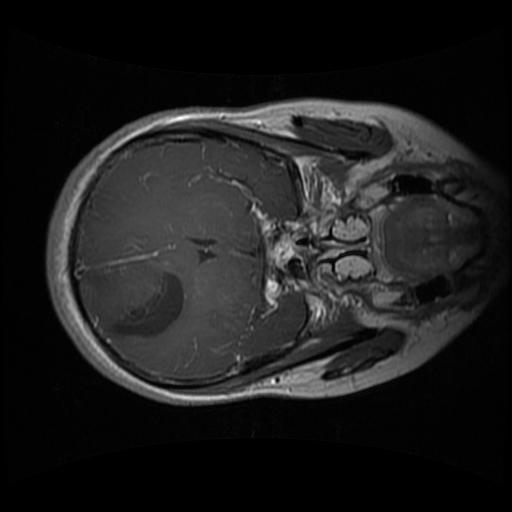glioma: (102, 266, 185, 341)
